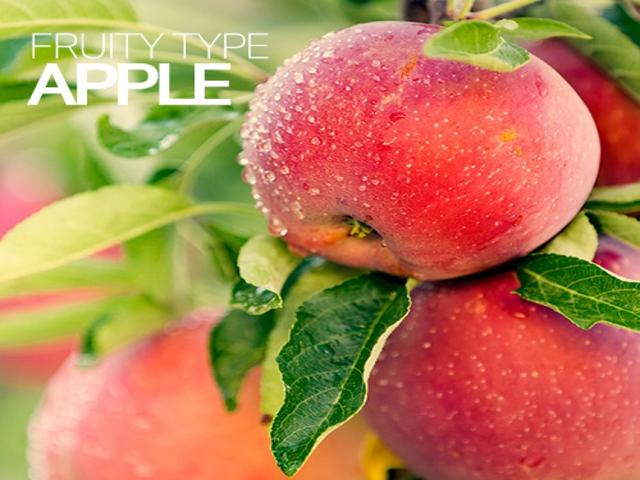apple: (238, 22, 603, 280), (360, 257, 638, 480)
